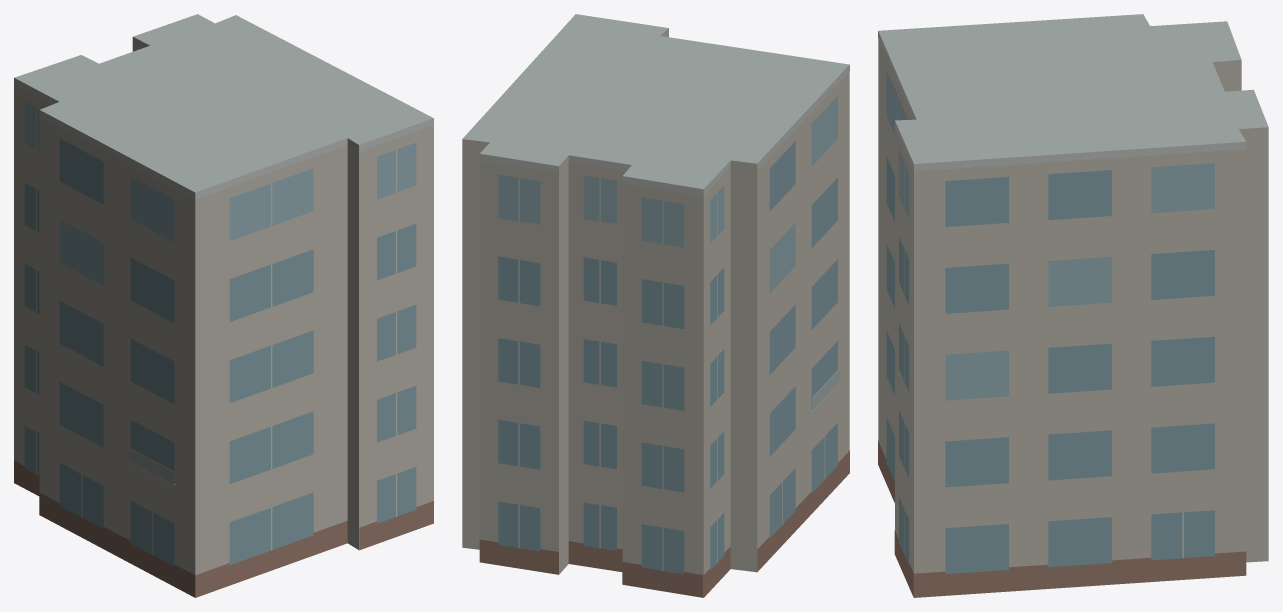
File: survey-upis-33027876.glb
3 renders of one model, left to right at view 1: azimuth 30°, elevation 25°; view 2: azimuth 150°, elevation 25°; view 3: azimuth 270°, elevation 25°, orthographic. The views are drawn at different scales.
Visible parts, largest first — view 1: survey-upis-33027876.tmp; view 2: survey-upis-33027876.tmp; view 3: survey-upis-33027876.tmp.
Boxes of the visible parts, x1,y1,x2,y2 form: survey-upis-33027876.tmp: (14,14,433,597); survey-upis-33027876.tmp: (462,14,849,597); survey-upis-33027876.tmp: (878,14,1268,597).
Bounding box in the file's own units: 10.54 × 14.2 × 11.6.
